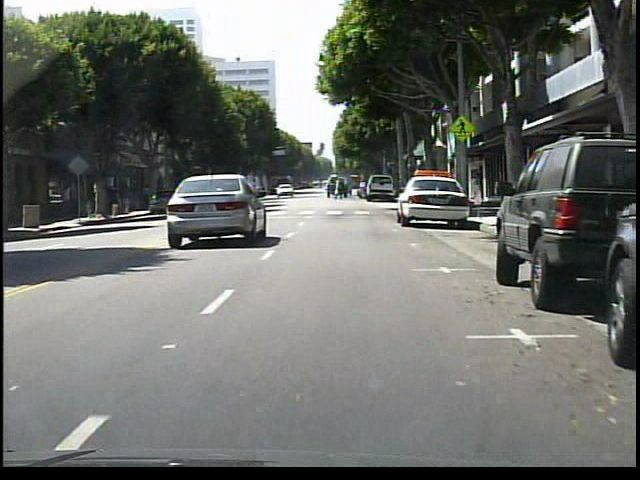person: (63, 183, 74, 217), (105, 189, 117, 218), (102, 186, 112, 216), (338, 176, 339, 198)
